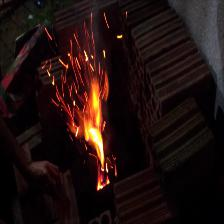fire: (46, 19, 135, 203)
